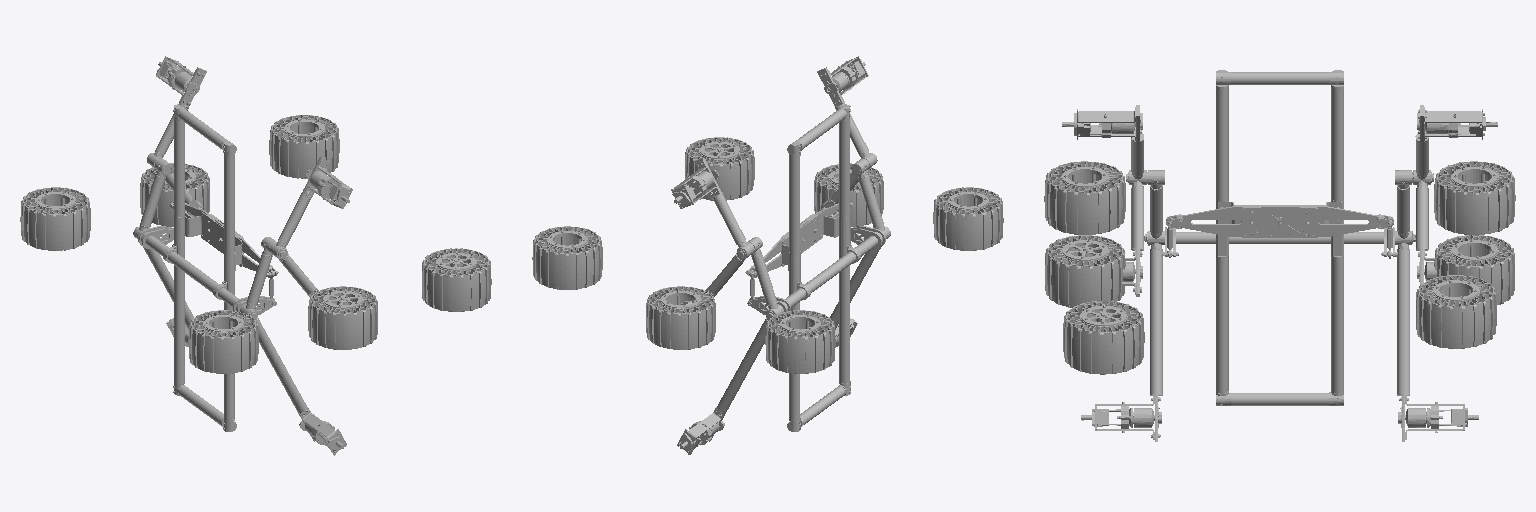
URDF robot description (robot):
<robot name='robot'>
    <link name='robot/chassis'>
        <visual>
            <origin xyz="0 0 0" rpy="1.5708 3.1416 -1.5708"/>
            <geometry>
                <mesh filename="./rover_base_link.stl"/>
            </geometry>
            <material name="rover_grey">
                <color rgba="0.75 0.75 0.75 1"/>
            </material>
        </visual>
    </link>

    <link name='robot/left_wheel'>
        <visual name='visual'>
            <origin xyz="0 0 0" rpy="0 -1.5708 1.5708"/>
            <geometry>
                <mesh filename="./rover_center_left_wheel.stl"/>
            </geometry>
            <material name="rover_grey">
                <color rgba="0.75 0.75 0.75 1"/>
            </material>
        </visual>
    </link>
    <joint name="left_wheel_joint" type="fixed">
        <parent link="robot/chassis"/>
        <child link="robot/left_wheel"/>
        <origin xyz="0 0.48455 0" rpy="0 0 0"/>
    </joint>

    <link name='robot/right_wheel'>
        <visual name='visual'>
            <origin xyz="0 0 0" rpy="0 -1.5708 1.5708"/>
            <geometry>
                <mesh filename="./rover_center_right_wheel.stl"/>
            </geometry>
            <material name="rover_grey">
                <color rgba="0.75 0.75 0.75 1"/>
            </material>
        </visual>
    </link>
    <joint name="right_wheel_joint" type="fixed">
        <parent link="robot/chassis"/>
        <child link="robot/right_wheel"/>
        <origin xyz="0 -0.48455 0" rpy="0 0 0"/>
    </joint>

    <!-- Front-left visual wheel (fixed, no physics) -->
    <link name='robot/fl_whl'>
        <visual name='visual'>
            <origin xyz="0 0 0.07" rpy="0 -1.5708 1.5708"/>
            <geometry>
                <mesh filename="./rover_front_left_wheel.stl"/>
            </geometry>
            <material name="rover_grey">
                <color rgba="0.75 0.75 0.75 1"/>
            </material>
        </visual>
    </link>
    <joint name="fl_whl_joint" type="fixed">
        <parent link="robot/chassis"/>
        <child link="robot/fl_whl"/>
        <origin xyz="0.40398 0.43855 0.0080468" rpy="0 0 0"/>
    </joint>

    <!-- Front-right visual wheel -->
    <link name='robot/fr_whl'>
        <visual name='visual'>
            <origin xyz="0 0 0" rpy="0 -1.5708 1.5708"/>
            <geometry>
                <mesh filename="./rover_front_right_wheel.stl"/>
            </geometry>
            <material name="rover_grey">
                <color rgba="0.75 0.75 0.75 1"/>
            </material>
        </visual>
    </link>
    <joint name="fr_whl_joint" type="fixed">
        <parent link="robot/chassis"/>
        <child link="robot/fr_whl"/>
        <origin xyz="0.40398 -0.43855 0.0080468" rpy="0 0 0"/>
    </joint>

    <!-- Rear-left visual wheel -->
    <link name='robot/rl_whl'>
        <visual name='visual'>
            <origin xyz="0 0 0" rpy="0 -1.5708 1.5708"/>
            <geometry>
                <mesh filename="./rover_rear_left_wheel.stl"/>
            </geometry>
            <material name="rover_grey">
                <color rgba="0.75 0.75 0.75 1"/>
            </material>
        </visual>
    </link>
    <joint name="rl_whl_joint" type="fixed">
        <parent link="robot/chassis"/>
        <child link="robot/rl_whl"/>
        <origin xyz="-0.39807 0.48455 0.016315" rpy="0 0 0"/>
    </joint>

    <!-- Rear-right visual wheel -->
    <link name='robot/rr_whl'>
        <visual name='visual'>
            <origin xyz="0 0 0" rpy="0 -1.5708 1.5708"/>
            <geometry>
                <mesh filename="./rover_rear_right_wheel.stl"/>
            </geometry>
            <material name="rover_grey">
                <color rgba="0.75 0.75 0.75 1"/>
            </material>
        </visual>
    </link>
    <joint name="rr_whl_joint" type="fixed">
        <parent link="robot/chassis"/>
        <child link="robot/rr_whl"/>
        <origin xyz="-0.39807 -0.48455 0.016315" rpy="0 0 0"/>
    </joint>
</robot>

--- Render facts (derived) ---
3 views of the same robot in one strip: view 1: azimuth 30°, elevation 25°; view 2: azimuth 150°, elevation 25°; view 3: azimuth 270°, elevation 25° (orthographic).
Robot: robot — 7 links, 6 joints (6 fixed); root link robot/chassis; default pose: all joints at 0.
Visible links, largest first — view 1: robot/chassis, robot/rr_whl, robot/rl_whl, robot/right_wheel, robot/fr_whl, robot/fl_whl, robot/left_wheel; view 2: robot/chassis, robot/fl_whl, robot/rl_whl, robot/rr_whl, robot/left_wheel, robot/fr_whl, robot/right_wheel; view 3: robot/chassis, robot/fr_whl, robot/rr_whl, robot/rl_whl, robot/fl_whl, robot/right_wheel, robot/left_wheel.
Boxes of the visible links, <box> form: robot/chassis: <box>133,56,352,455</box>; robot/rr_whl: <box>188,310,258,373</box>; robot/rl_whl: <box>20,187,90,250</box>; robot/right_wheel: <box>308,286,377,349</box>; robot/fr_whl: <box>422,248,491,311</box>; robot/fl_whl: <box>269,115,339,178</box>; robot/left_wheel: <box>140,163,209,226</box>; robot/chassis: <box>671,56,890,454</box>; robot/fl_whl: <box>532,226,602,289</box>; robot/rl_whl: <box>765,310,835,373</box>; robot/rr_whl: <box>933,187,1003,250</box>; robot/left_wheel: <box>646,286,715,349</box>; robot/fr_whl: <box>685,137,754,200</box>; robot/right_wheel: <box>814,163,883,226</box>; robot/chassis: <box>1062,70,1497,441</box>; robot/fr_whl: <box>1063,301,1144,374</box>; robot/rr_whl: <box>1044,161,1125,234</box>; robot/rl_whl: <box>1434,161,1515,234</box>; robot/fl_whl: <box>1416,275,1496,348</box>; robot/right_wheel: <box>1045,235,1125,307</box>; robot/left_wheel: <box>1434,235,1514,304</box>.
Size in the robot's own frame: 1.01 by 1.17 by 0.9269 metres.
Meshes: 7 distinct files referenced, 7 mesh visuals loaded (7 binary STL).
